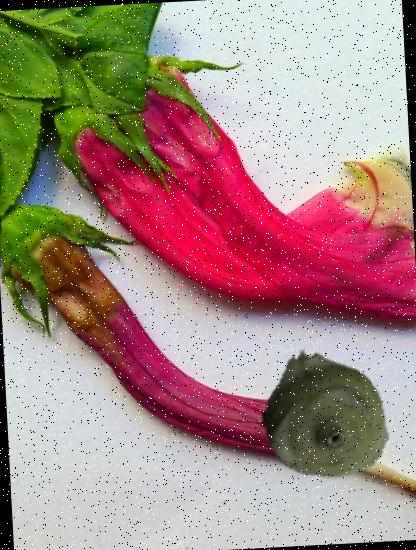Kohlrabi: (256, 344, 395, 482)
